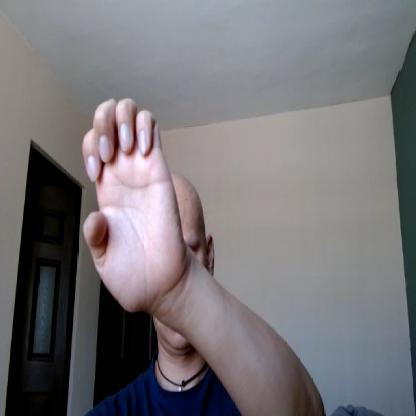E: (80, 96, 184, 312)
